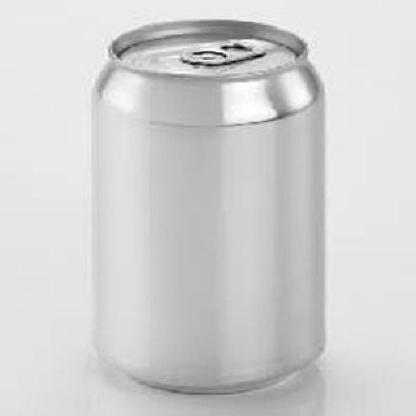Can: (87, 19, 329, 406)
